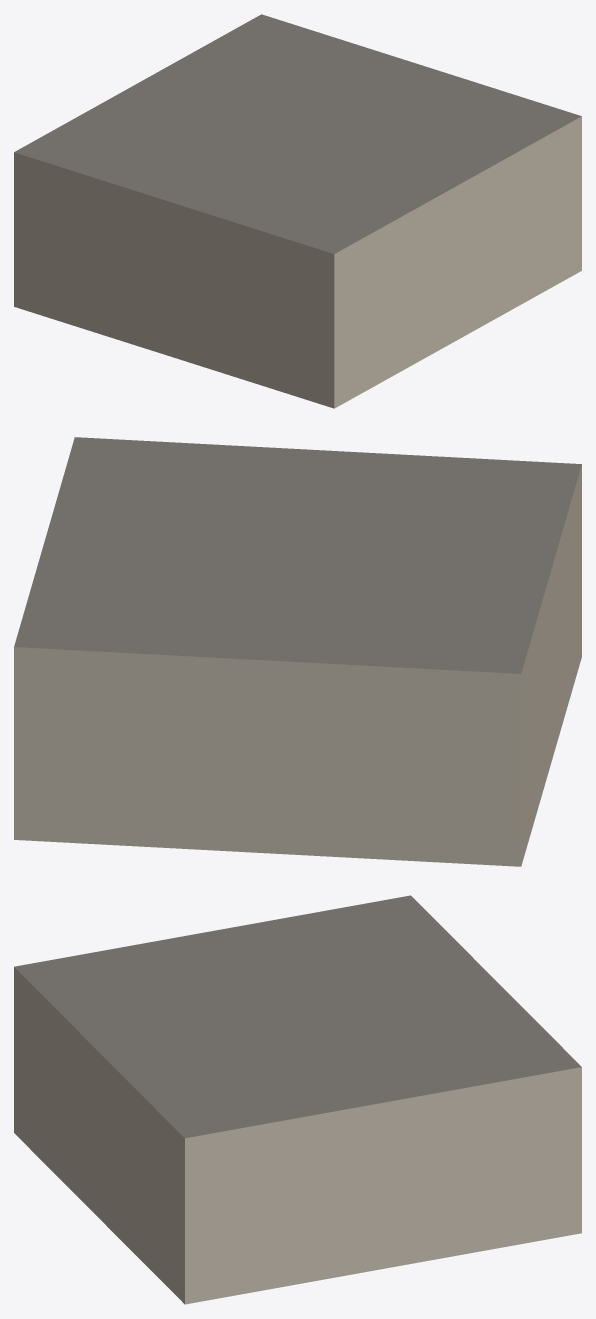
3 renders of one model, top to bottom at view 1: azimuth 30°, elevation 25°; view 2: azimuth 150°, elevation 25°; view 3: azimuth 270°, elevation 25°, orthographic. The views are drawn at different scales.
Parts seen in each view (by area): view 1: HP-w859457457; view 2: HP-w859457457; view 3: HP-w859457457.
Part boxes in pixels (x1,y1,x2,y2): HP-w859457457: [14, 14, 581, 408]; HP-w859457457: [14, 437, 581, 866]; HP-w859457457: [14, 895, 581, 1304].
Bounding box in the file's own units: 56.43 × 18 × 55.75.
